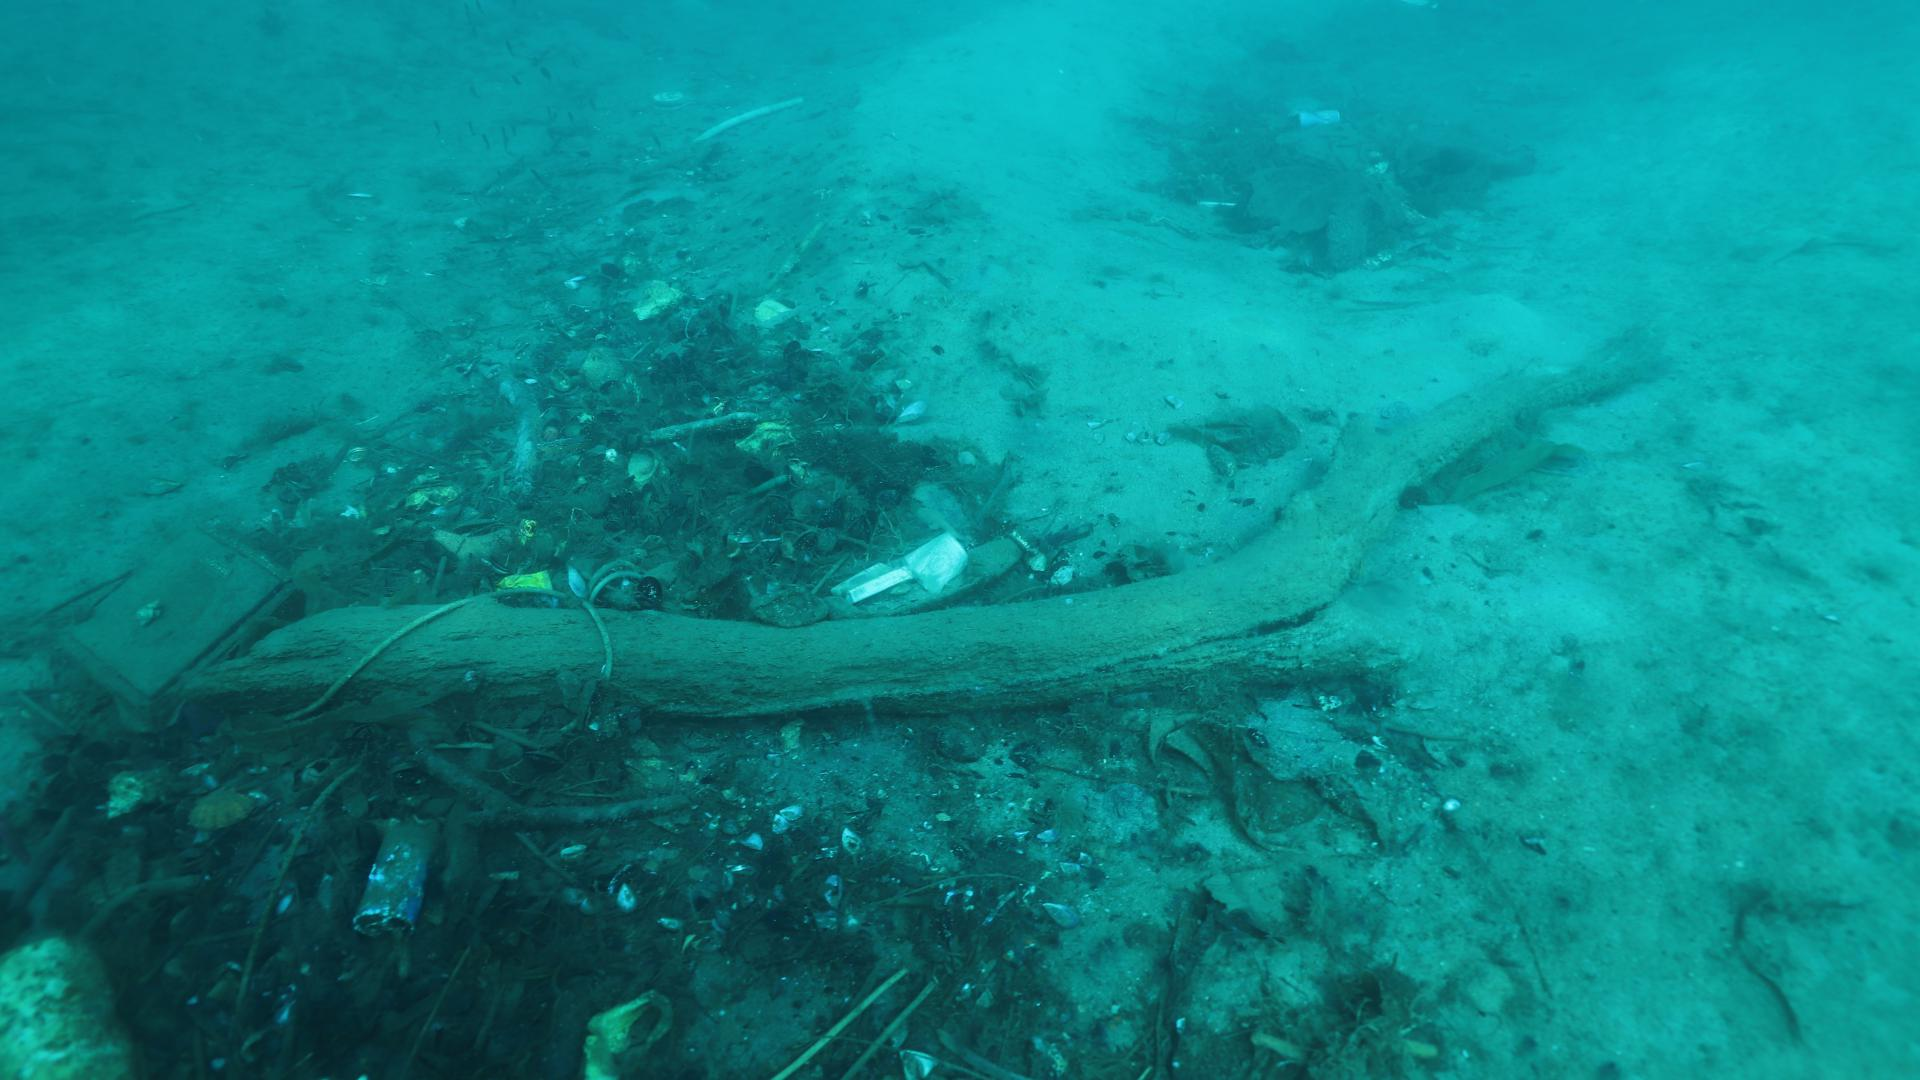wood: (185, 324, 1669, 709)
